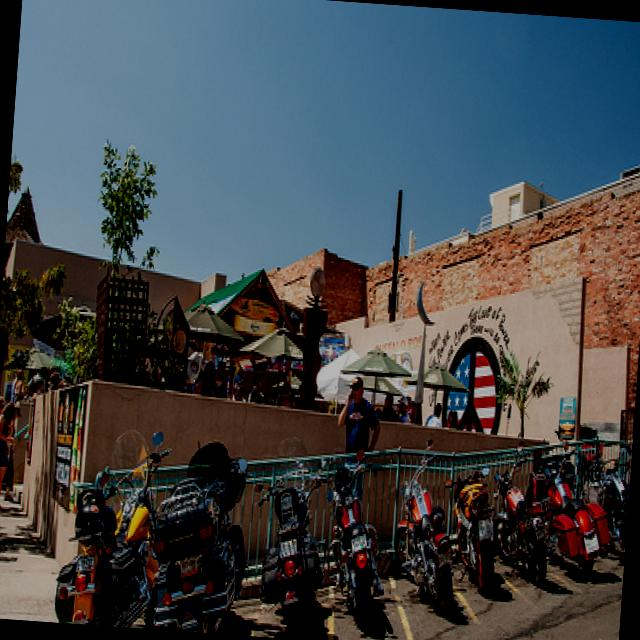Vehicle: (56, 424, 172, 630), (144, 433, 253, 635), (240, 467, 330, 640), (388, 438, 464, 618), (320, 453, 387, 632), (536, 439, 620, 578), (479, 454, 556, 596), (435, 464, 502, 596), (579, 443, 632, 568)
